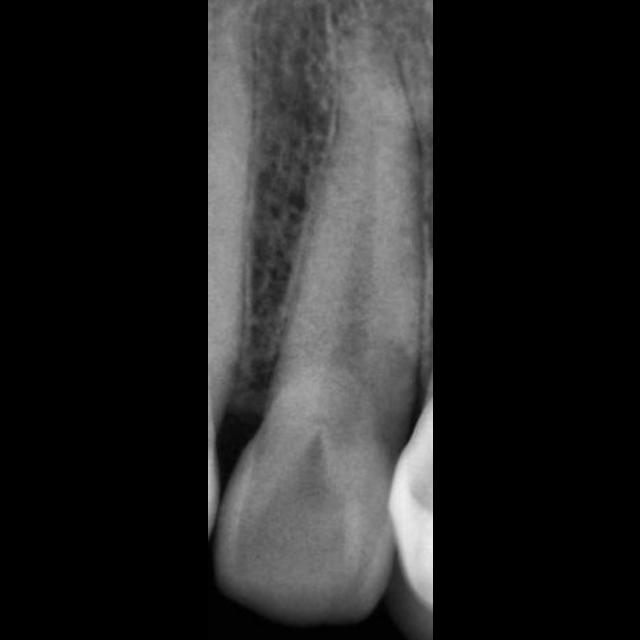tooth: (213, 20, 423, 627)
